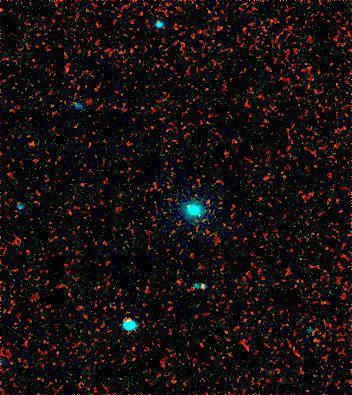star: (193, 186, 223, 216)
